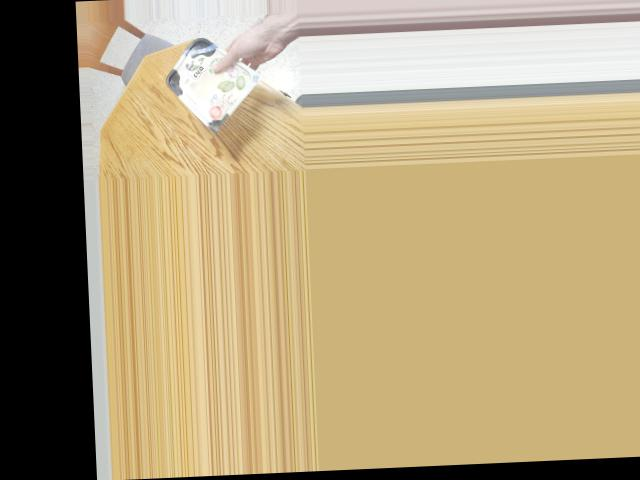cheese: (176, 41, 234, 123)
